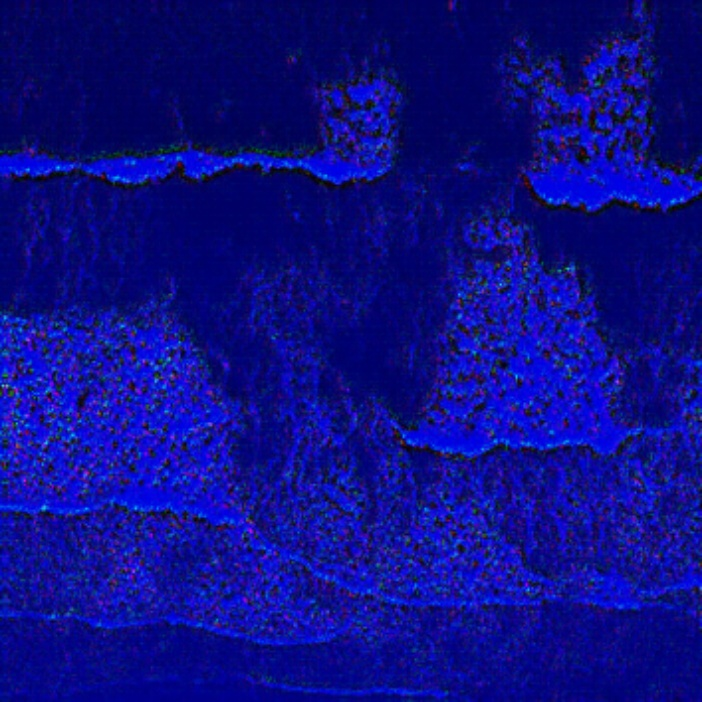rip_current: (157, 233, 508, 585)
